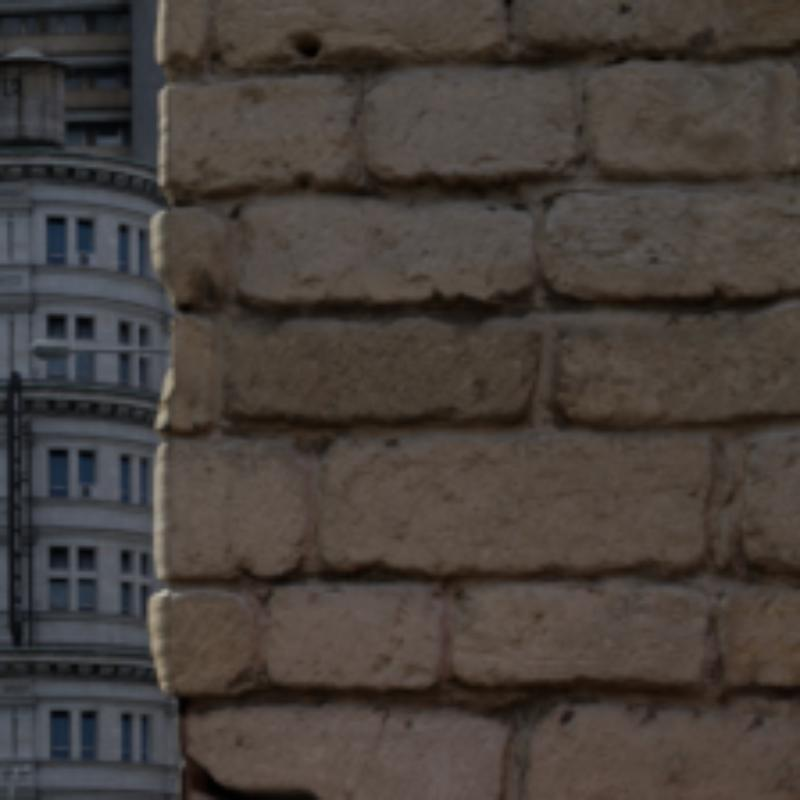pothole: (186, 754, 321, 796)
